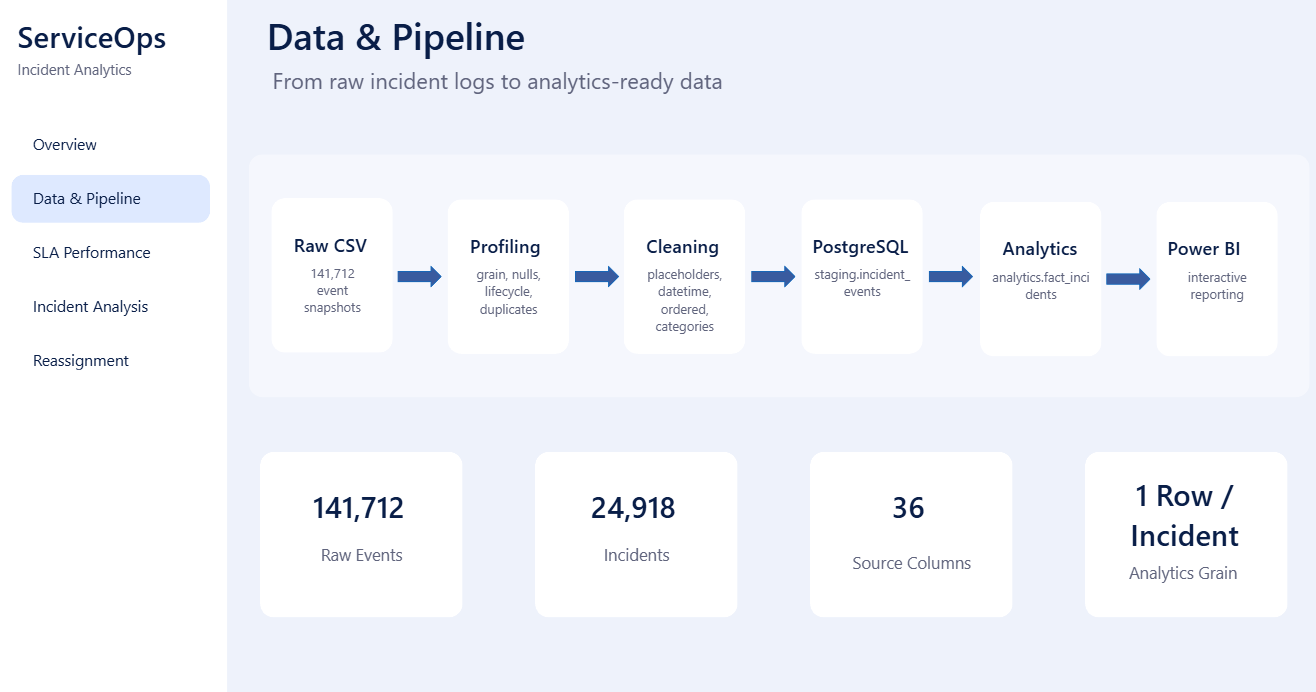

Layout of this report page (visuals, bound fields, positions):
{"tool":"powerbi","page":{"name":"Data & Pipeline","canvas":[1920,1080],"ordinal":1},"visuals":[{"type":"shape","box":[0,-24,336,1104],"z":0},{"type":"textbox","box":[384,32,393.1,96],"z":0,"group":"g3"},{"type":"textbox","box":[32,40,240,64],"z":0,"group":"g5"},{"type":"group","id":"g1","title":"Group 3","box":[400,304,176,224],"z":0,"group":"g15"},{"type":"group","id":"g2","title":"Group 6","box":[384,672,293.4,240],"z":0,"group":"g11"},{"type":"shape","box":[384,672,293.4,240],"z":0,"group":"g2"},{"type":"shape","box":[782.2,672,293.4,240],"z":0,"group":"g4"},{"type":"shape","box":[1180.4,672,293.4,240],"z":0,"group":"g7"},{"type":"shape","box":[1578.6,672,293.4,240],"z":0,"group":"g8"},{"type":"group","id":"g3","title":"Group 1","box":[384,32,688,128],"z":1000},{"type":"textbox","box":[32,104,240,32],"z":1000,"group":"g5"},{"type":"textbox","box":[384,112,688,48],"z":1000,"group":"g3"},{"type":"shape","box":[583,401.5,64,32],"z":1000,"group":"g15"},{"type":"group","id":"g4","title":"Group 6","box":[782.2,672,293.4,240],"z":1000,"group":"g11"},{"type":"textbox","box":[1594.6,704,256,128],"z":1000,"group":"g8"},{"type":"textbox","box":[448,720,160,64],"z":1000,"group":"g2"},{"type":"textbox","box":[862.2,720,125.7,72],"z":1000,"group":"g4"},{"type":"textbox","box":[1260.4,720,125.7,72],"z":1000,"group":"g7"},{"type":"group","id":"g5","title":"Group 2","box":[32,40,240,96],"z":2000},{"type":"group","id":"g6","title":"Group 3","box":[655,305.5,176,224],"z":2000,"group":"g15"},{"type":"group","id":"g7","title":"Group 6","box":[1180.4,672,293.4,240],"z":2000,"group":"g11"},{"type":"textbox","box":[446.9,804,167.7,72],"z":2000,"group":"g2"},{"type":"textbox","box":[845.1,804,167.7,72],"z":2000,"group":"g4"},{"type":"textbox","box":[1201.4,816,251.5,72],"z":2000,"group":"g7"},{"type":"textbox","box":[1594.6,832,251.5,72],"z":2000,"group":"g8"},{"type":"pageNavigator","box":[24,192,288,384],"z":3000},{"type":"shape","box":[839,401.5,64,32],"z":3000,"group":"g15"},{"type":"group","id":"g8","title":"Group 6","box":[1578.6,672,293.4,240],"z":3000,"group":"g11"},{"type":"group","id":"g9","title":"Group 5","box":[368,240,1536,352],"z":4000},{"type":"group","id":"g10","title":"Group 3","box":[911,305.5,176,224],"z":4000,"group":"g15"},{"type":"shape","box":[1095,401.5,64,32],"z":5000,"group":"g15"},{"type":"group","id":"g11","title":"Group 7","box":[384,672,1488,240],"z":5004},{"type":"group","id":"g12","title":"Group 3","box":[1425.7,309.5,176,224],"z":6000,"group":"g15"},{"type":"shape","box":[368,240,1536,352],"z":7000,"group":"g9"},{"type":"shape","box":[1609.7,405.5,64,32],"z":7000,"group":"g15"},{"type":"group","id":"g13","title":"Group 3","box":[1681.7,309.5,176,224],"z":8000,"group":"g15"},{"type":"shape","box":[400,304,176,224],"z":9000,"group":"g1"},{"type":"shape","box":[655,305.5,176,224],"z":9000,"group":"g6"},{"type":"shape","box":[911,305.5,176,224],"z":9000,"group":"g10"},{"type":"group","id":"g14","title":"Group 3","box":[1167,305.5,176,224],"z":9000,"group":"g15"},{"type":"shape","box":[1167,305.5,176,224],"z":9000,"group":"g14"},{"type":"shape","box":[1425.7,309.5,176,224],"z":9000,"group":"g12"},{"type":"shape","box":[1681.7,309.5,176,224],"z":9000,"group":"g13"},{"type":"textbox","box":[432,352,128,48],"z":10000,"group":"g1"},{"type":"textbox","box":[687,353.5,128,48],"z":10000,"group":"g6"},{"type":"textbox","box":[943,353.5,128,48],"z":10000,"group":"g10"},{"type":"textbox","box":[1183,353.5,152,48],"z":10000,"group":"g14"},{"type":"textbox","box":[1457.7,357.5,112,48],"z":10000,"group":"g12"},{"type":"textbox","box":[1697.7,357.5,152,48],"z":10000,"group":"g13"},{"type":"shape","box":[1351,401.5,64,32],"z":10000,"group":"g15"},{"type":"textbox","box":[432,400,112,96],"z":11000,"group":"g1"},{"type":"textbox","box":[687,401.5,112,96],"z":11000,"group":"g6"},{"type":"textbox","box":[927,401.5,144,112],"z":11000,"group":"g10"},{"type":"textbox","box":[1183,401.5,144,112],"z":11000,"group":"g14"},{"type":"textbox","box":[1441.7,405.5,144,112],"z":11000,"group":"g12"},{"type":"textbox","box":[1697.7,405.5,144,112],"z":11000,"group":"g13"},{"type":"group","id":"g15","title":"Group 4","box":[400,304,1472,224],"z":18002,"group":"g9"}]}

Visuals, with their boxes on the page's 1920x1080 design canvas (x1, y1, x2, y2). These are canvas units, not pixel positions in the 1316x692 screenshot, which may show the page scaled, cropped or inside an application window:
shape: (0, -24, 336, 1080)
textbox: (384, 32, 777, 128)
textbox: (32, 40, 272, 104)
"Group 3" group: (400, 304, 576, 528)
"Group 6" group: (384, 672, 677, 912)
shape: (384, 672, 677, 912)
shape: (782, 672, 1076, 912)
shape: (1180, 672, 1474, 912)
shape: (1579, 672, 1872, 912)
"Group 1" group: (384, 32, 1072, 160)
textbox: (32, 104, 272, 136)
textbox: (384, 112, 1072, 160)
shape: (583, 402, 647, 434)
"Group 6" group: (782, 672, 1076, 912)
textbox: (1595, 704, 1851, 832)
textbox: (448, 720, 608, 784)
textbox: (862, 720, 988, 792)
textbox: (1260, 720, 1386, 792)
"Group 2" group: (32, 40, 272, 136)
"Group 3" group: (655, 306, 831, 530)
"Group 6" group: (1180, 672, 1474, 912)
textbox: (447, 804, 615, 876)
textbox: (845, 804, 1013, 876)
textbox: (1201, 816, 1453, 888)
textbox: (1595, 832, 1846, 904)
pageNavigator: (24, 192, 312, 576)
shape: (839, 402, 903, 434)
"Group 6" group: (1579, 672, 1872, 912)
"Group 5" group: (368, 240, 1904, 592)
"Group 3" group: (911, 306, 1087, 530)
shape: (1095, 402, 1159, 434)
"Group 7" group: (384, 672, 1872, 912)
"Group 3" group: (1426, 310, 1602, 534)
shape: (368, 240, 1904, 592)
shape: (1610, 406, 1674, 438)
"Group 3" group: (1682, 310, 1858, 534)
shape: (400, 304, 576, 528)
shape: (655, 306, 831, 530)
shape: (911, 306, 1087, 530)
"Group 3" group: (1167, 306, 1343, 530)
shape: (1167, 306, 1343, 530)
shape: (1426, 310, 1602, 534)
shape: (1682, 310, 1858, 534)
textbox: (432, 352, 560, 400)
textbox: (687, 354, 815, 402)
textbox: (943, 354, 1071, 402)
textbox: (1183, 354, 1335, 402)
textbox: (1458, 358, 1570, 406)
textbox: (1698, 358, 1850, 406)
shape: (1351, 402, 1415, 434)
textbox: (432, 400, 544, 496)
textbox: (687, 402, 799, 498)
textbox: (927, 402, 1071, 514)
textbox: (1183, 402, 1327, 514)
textbox: (1442, 406, 1586, 518)
textbox: (1698, 406, 1842, 518)
"Group 4" group: (400, 304, 1872, 528)
